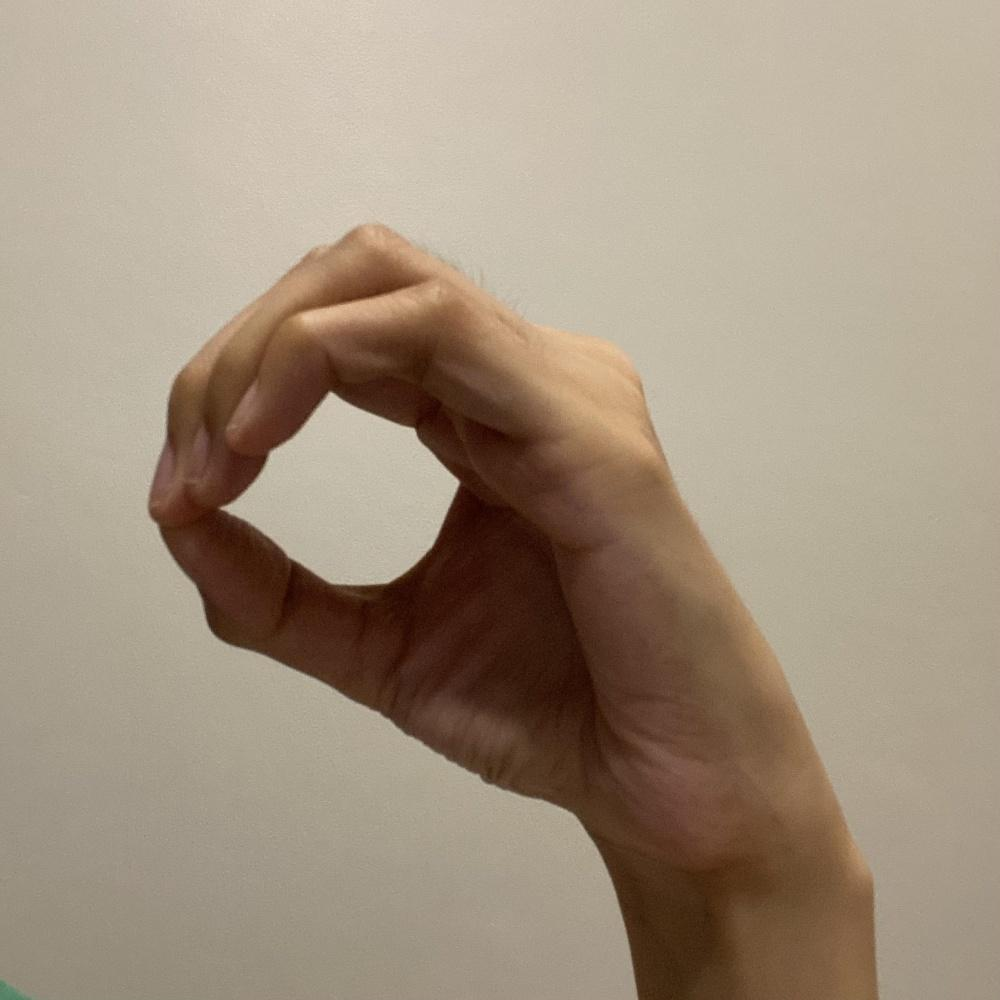o: (143, 212, 821, 871)
